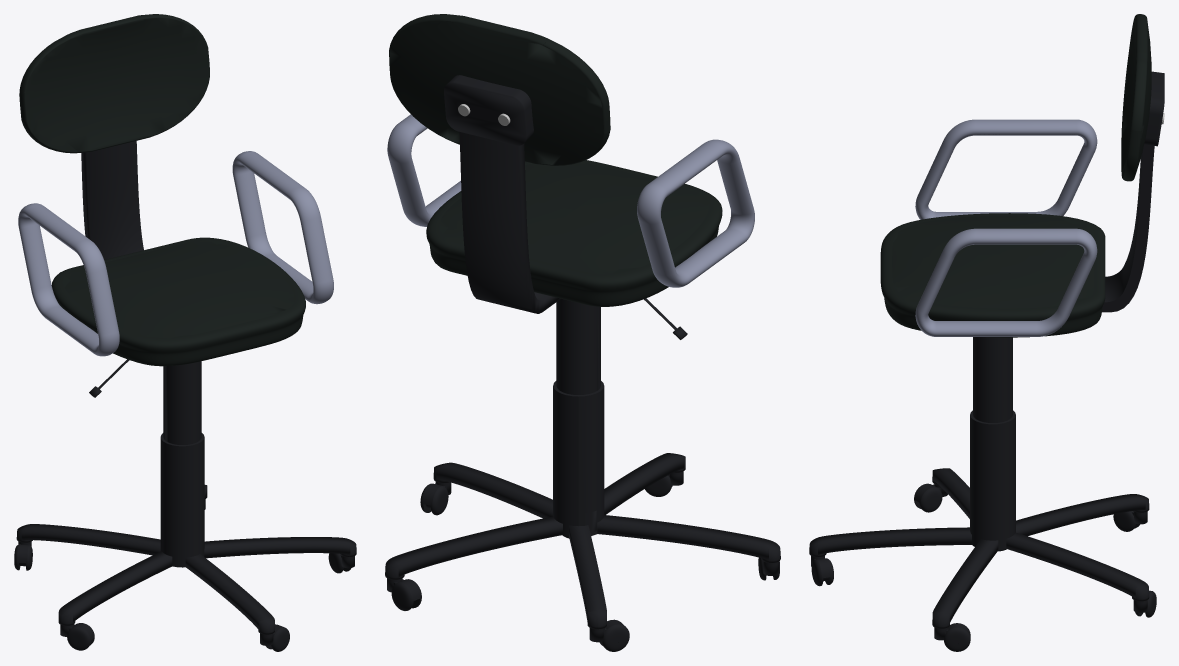
Rendered from OFFICE CHAIR.dae.
The picture shows the model from 3 angles, left to right: view 1: azimuth 30°, elevation 25°; view 2: azimuth 150°, elevation 25°; view 3: azimuth 270°, elevation 25°; orthographic projection. The views are drawn at different scales.
Parts seen in each view (by area): view 1: group_7, group_9, group_5 (×4), group_10 (×2), group_8, group_1, group_6, group_0; view 2: group_7, group_0, group_9, group_5 (×5), group_10 (×2), group_1, group_8, group_6, group_4, Group_17; view 3: group_9, group_5 (×5), group_10 (×2), group_6, group_8, group_1, group_7, OFFICE_CHAIR_1, group_0, Group_17, group_4.
Boxes of the visible parts, <box> form: group_7: <box>19,14,209,153</box>; group_9: <box>62,240,294,338</box>; group_5 (×4): <box>16,524,356,634</box>; group_10 (×2): <box>98,359,204,567</box>; group_8: <box>51,237,305,366</box>; group_1: <box>18,203,119,356</box>; group_6: <box>232,151,333,304</box>; group_0: <box>81,141,143,259</box>; group_7: <box>389,14,610,165</box>; group_0: <box>444,75,560,313</box>; group_9: <box>439,162,709,274</box>; group_5 (×5): <box>385,453,780,629</box>; group_10 (×2): <box>553,298,676,536</box>; group_1: <box>637,139,754,287</box>; group_8: <box>426,160,722,306</box>; group_6: <box>387,114,461,226</box>; group_4: <box>602,623,629,651</box>; Group_17: <box>423,484,448,515</box>; group_9: <box>892,215,1093,308</box>; group_5 (×5): <box>809,468,1149,628</box>; group_10 (×2): <box>970,337,1015,550</box>; group_6: <box>915,228,1097,336</box>; group_8: <box>880,213,1105,337</box>; group_1: <box>915,119,1097,219</box>; group_7: <box>1121,14,1151,181</box>; OFFICE_CHAIR_1: <box>1102,144,1154,312</box>; group_0: <box>1104,71,1164,302</box>; Group_17: <box>915,484,942,512</box>; group_4: <box>944,627,970,651</box>.
Bounding box in the file's own units: 25.1 × 24.98 × 41.93.
